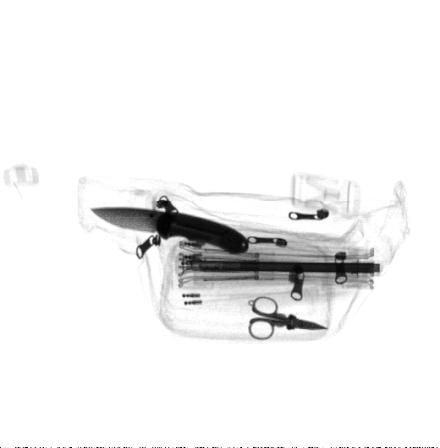Knife: (91, 208, 249, 254)
Scissors: (248, 294, 329, 340)
